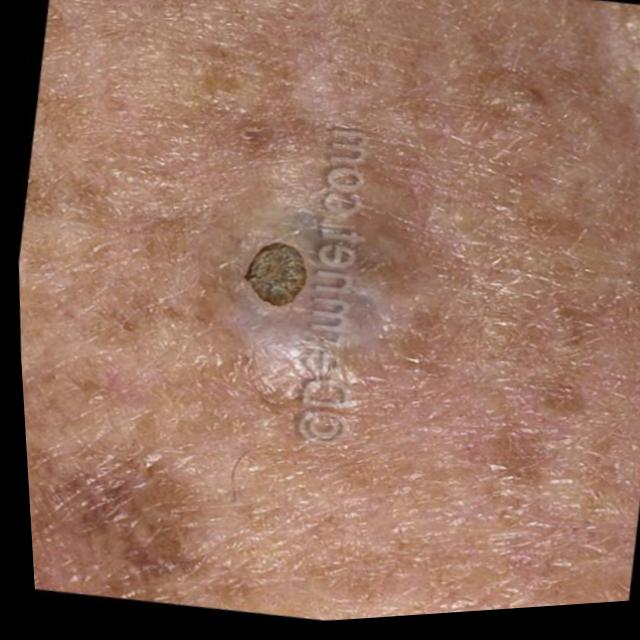Eczema: (235, 216, 314, 321)
